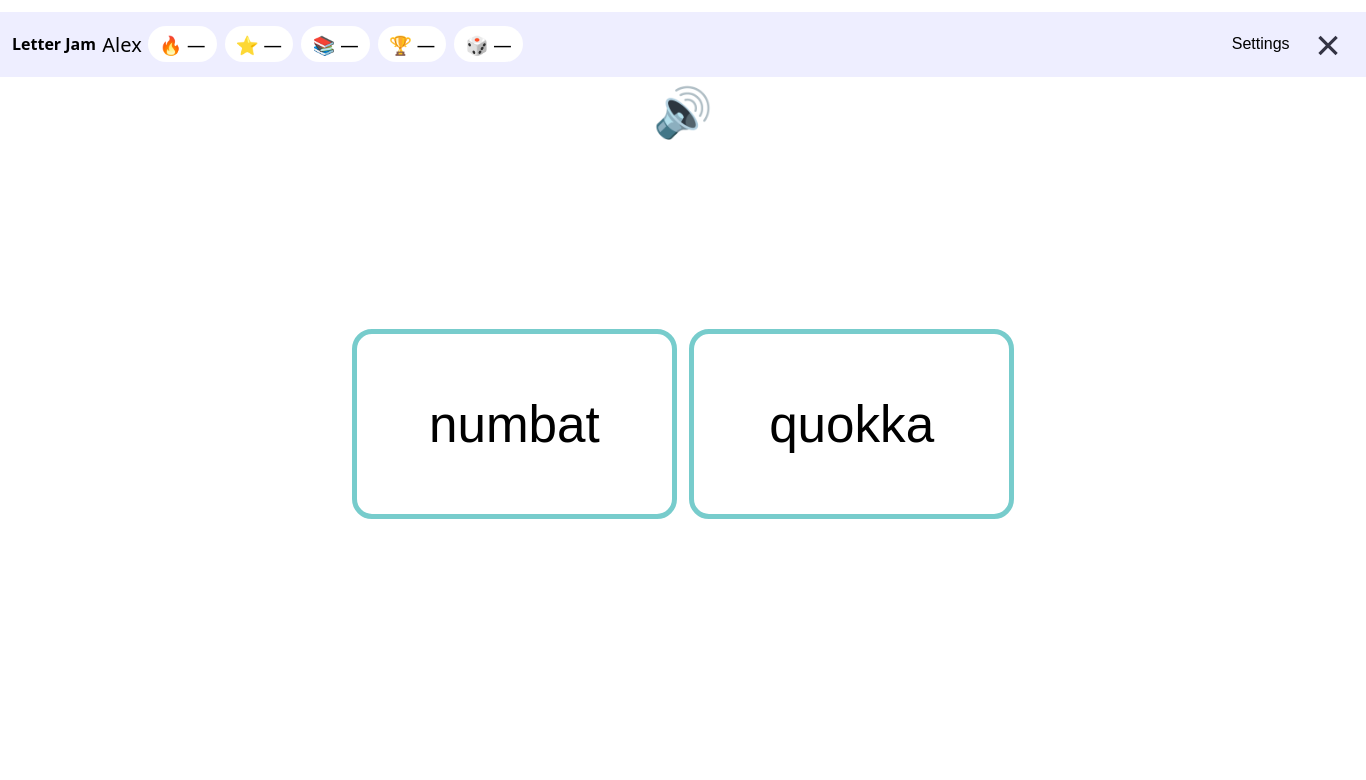
Test: one-and-done reveals the correct card and records unknown
Check: the button "numbat" is shown, box [352,329,677,519]
Step 1. Click the button "Settings" → point(1261, 44), box [1226,22,1296,66]
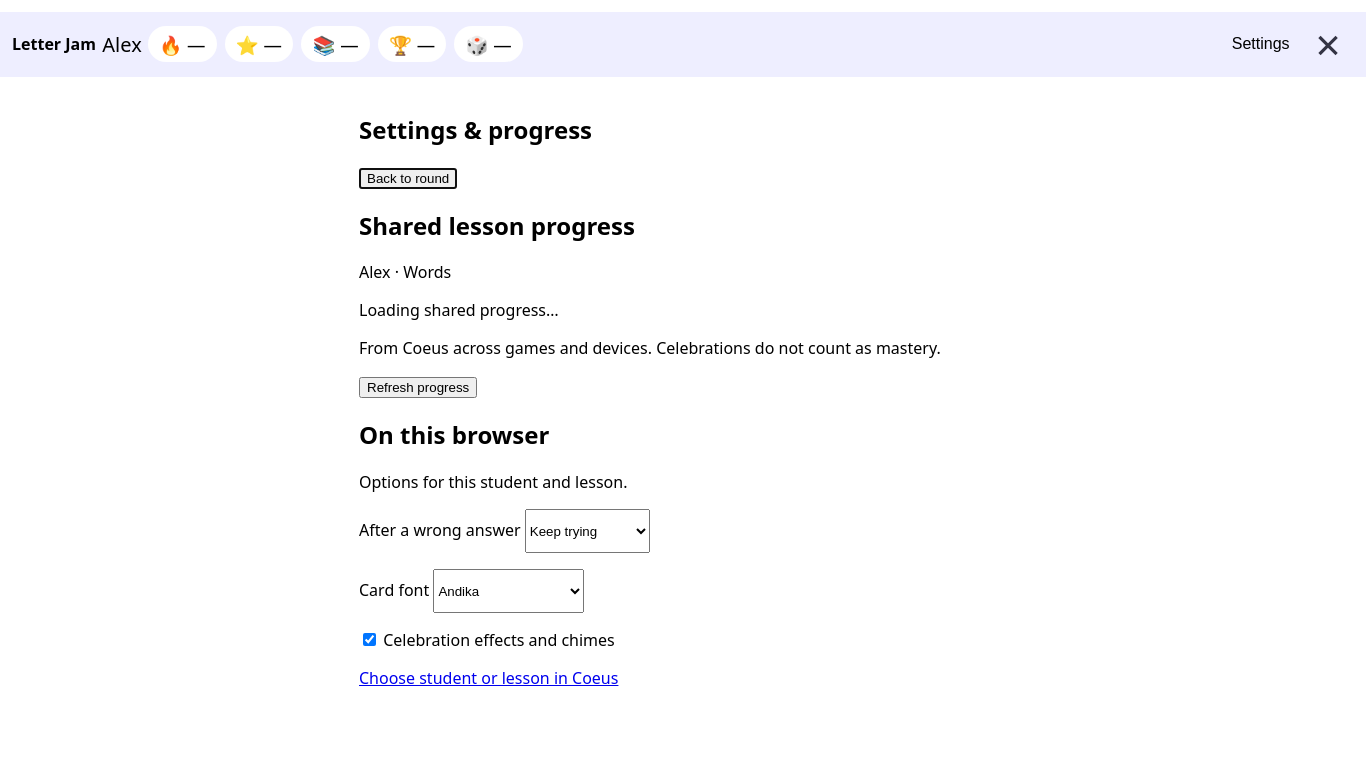
Step 2. Select "Show the answer" in the dropdown labelled "After a wrong answer" → point(587, 531), box [525,509,650,553]
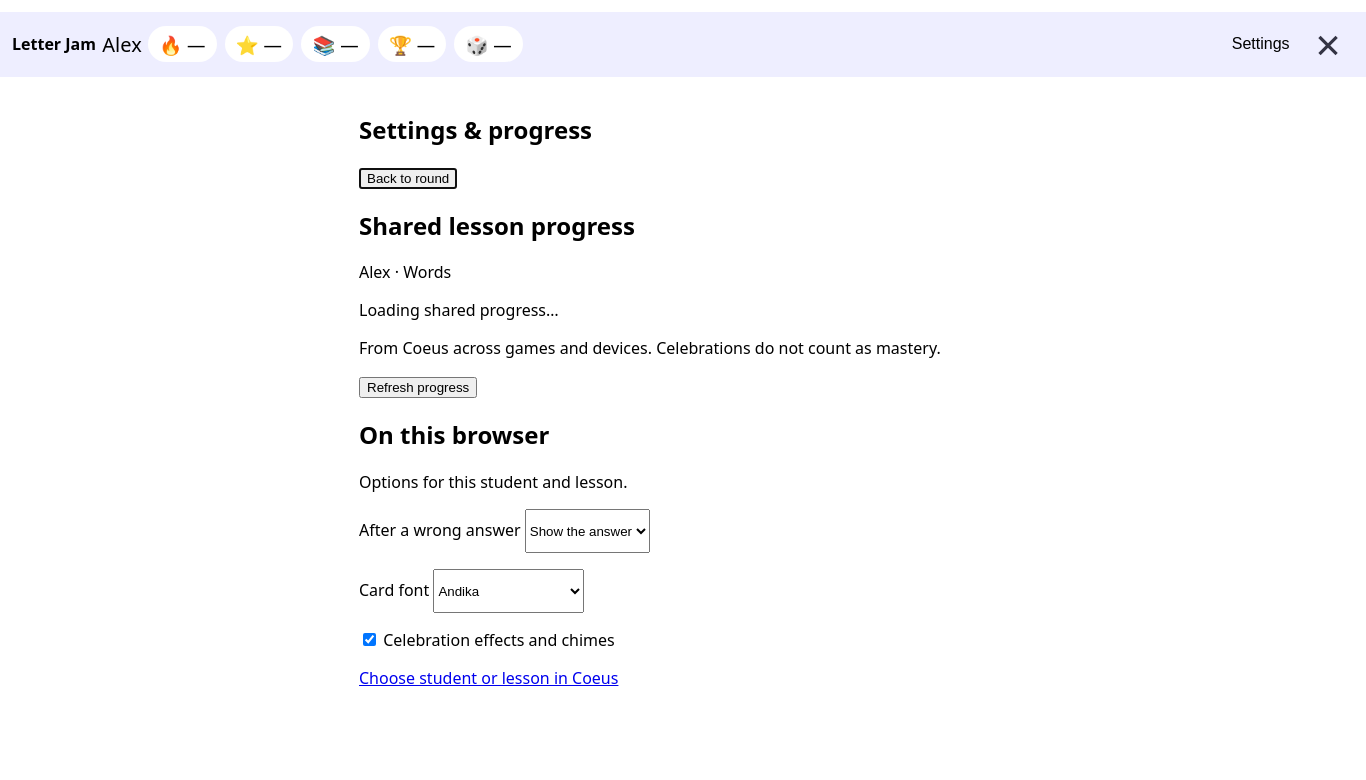
Step 3. Click the button "Back to round" → point(408, 178), box [359,168,457,189]
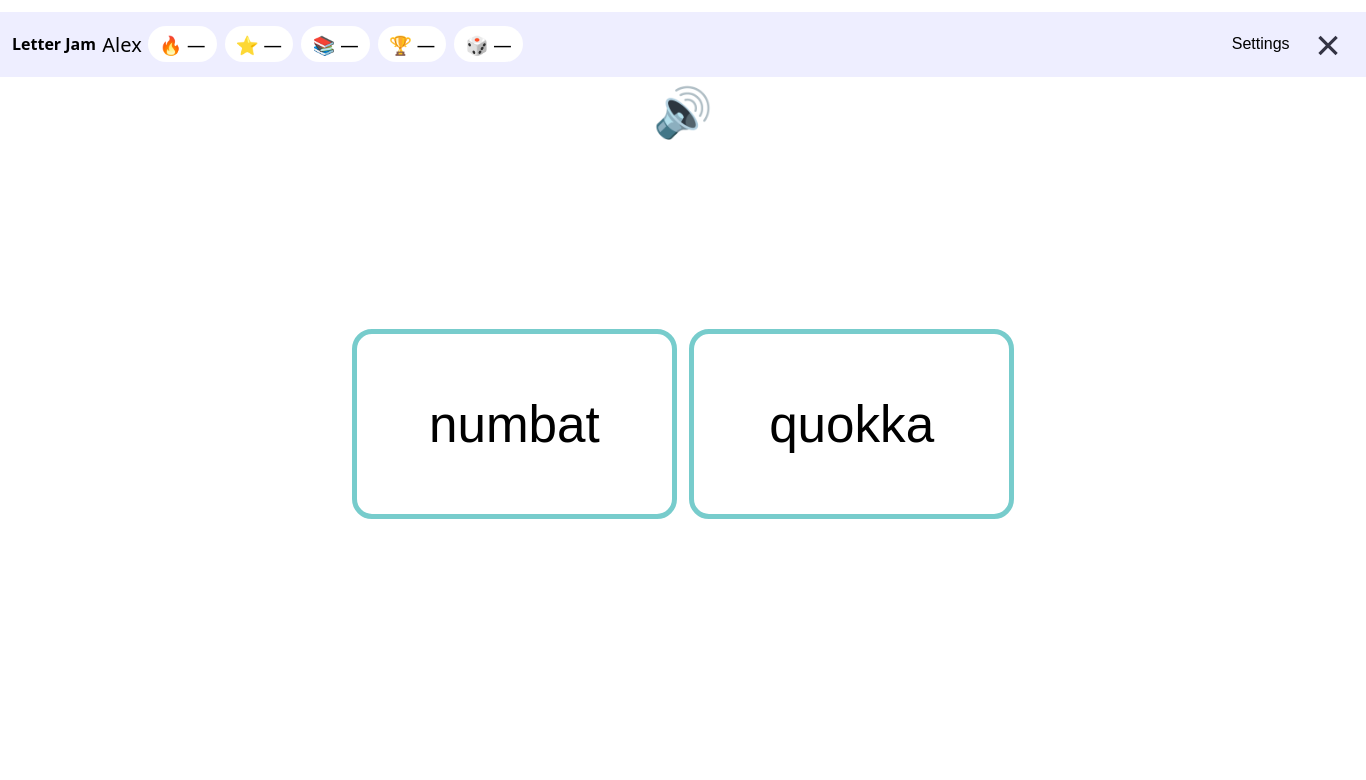
Step 4. Click the button "numbat" → point(514, 424), box [352,329,677,519]
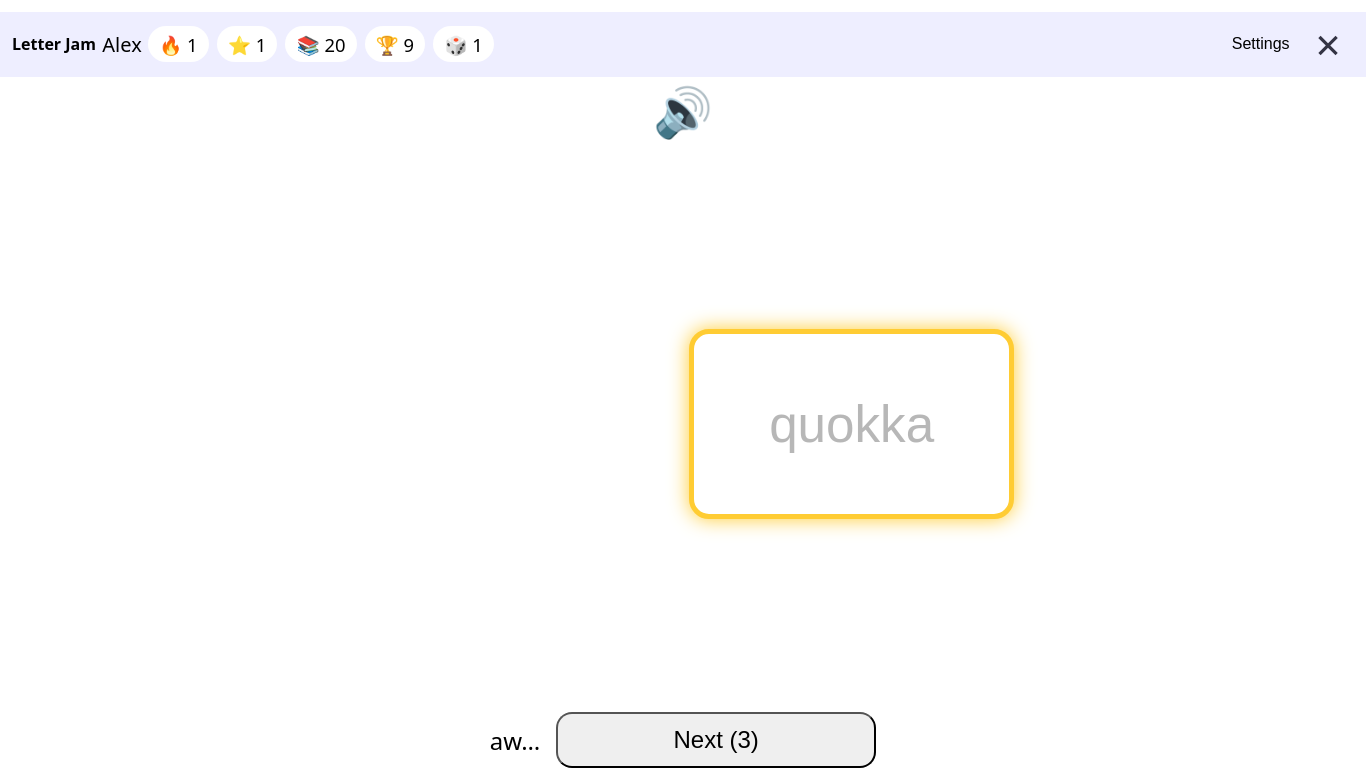
Check: the text "aw…" is shown, box [490,724,540,756]
